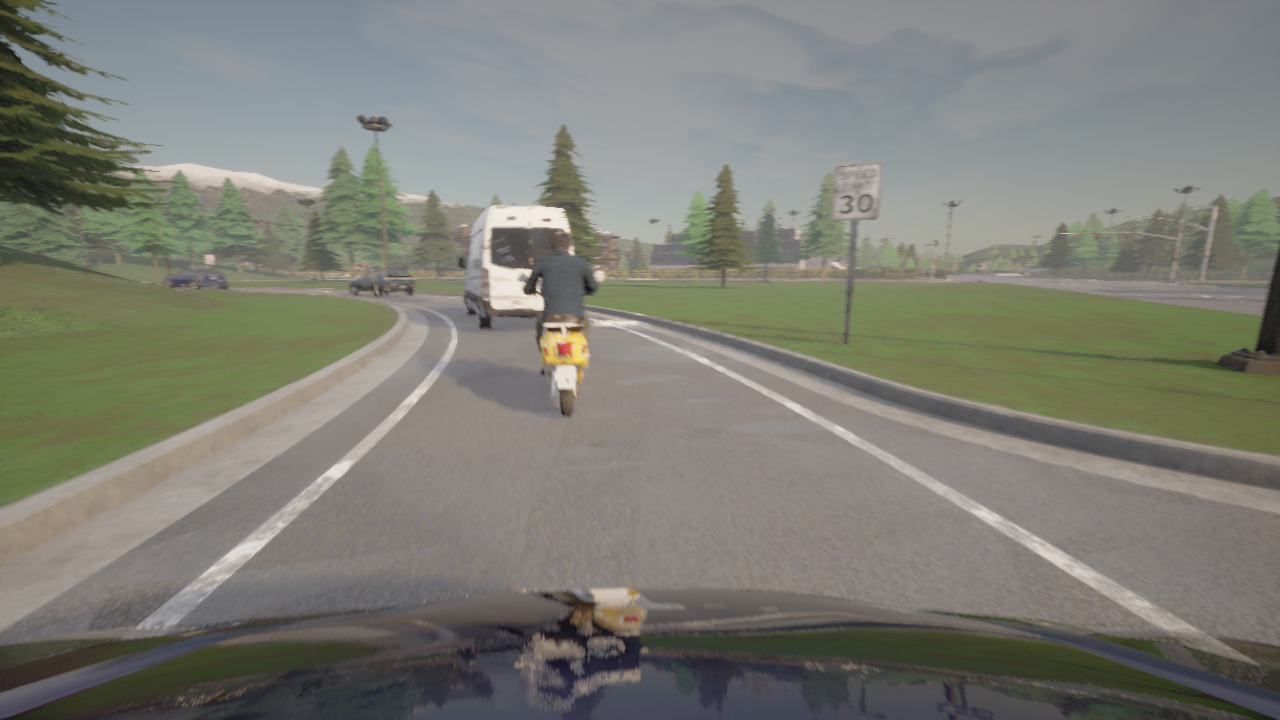cyclist: (0, 588, 1279, 719), (458, 205, 573, 329), (516, 270, 604, 416), (349, 268, 416, 297), (163, 267, 228, 289)
